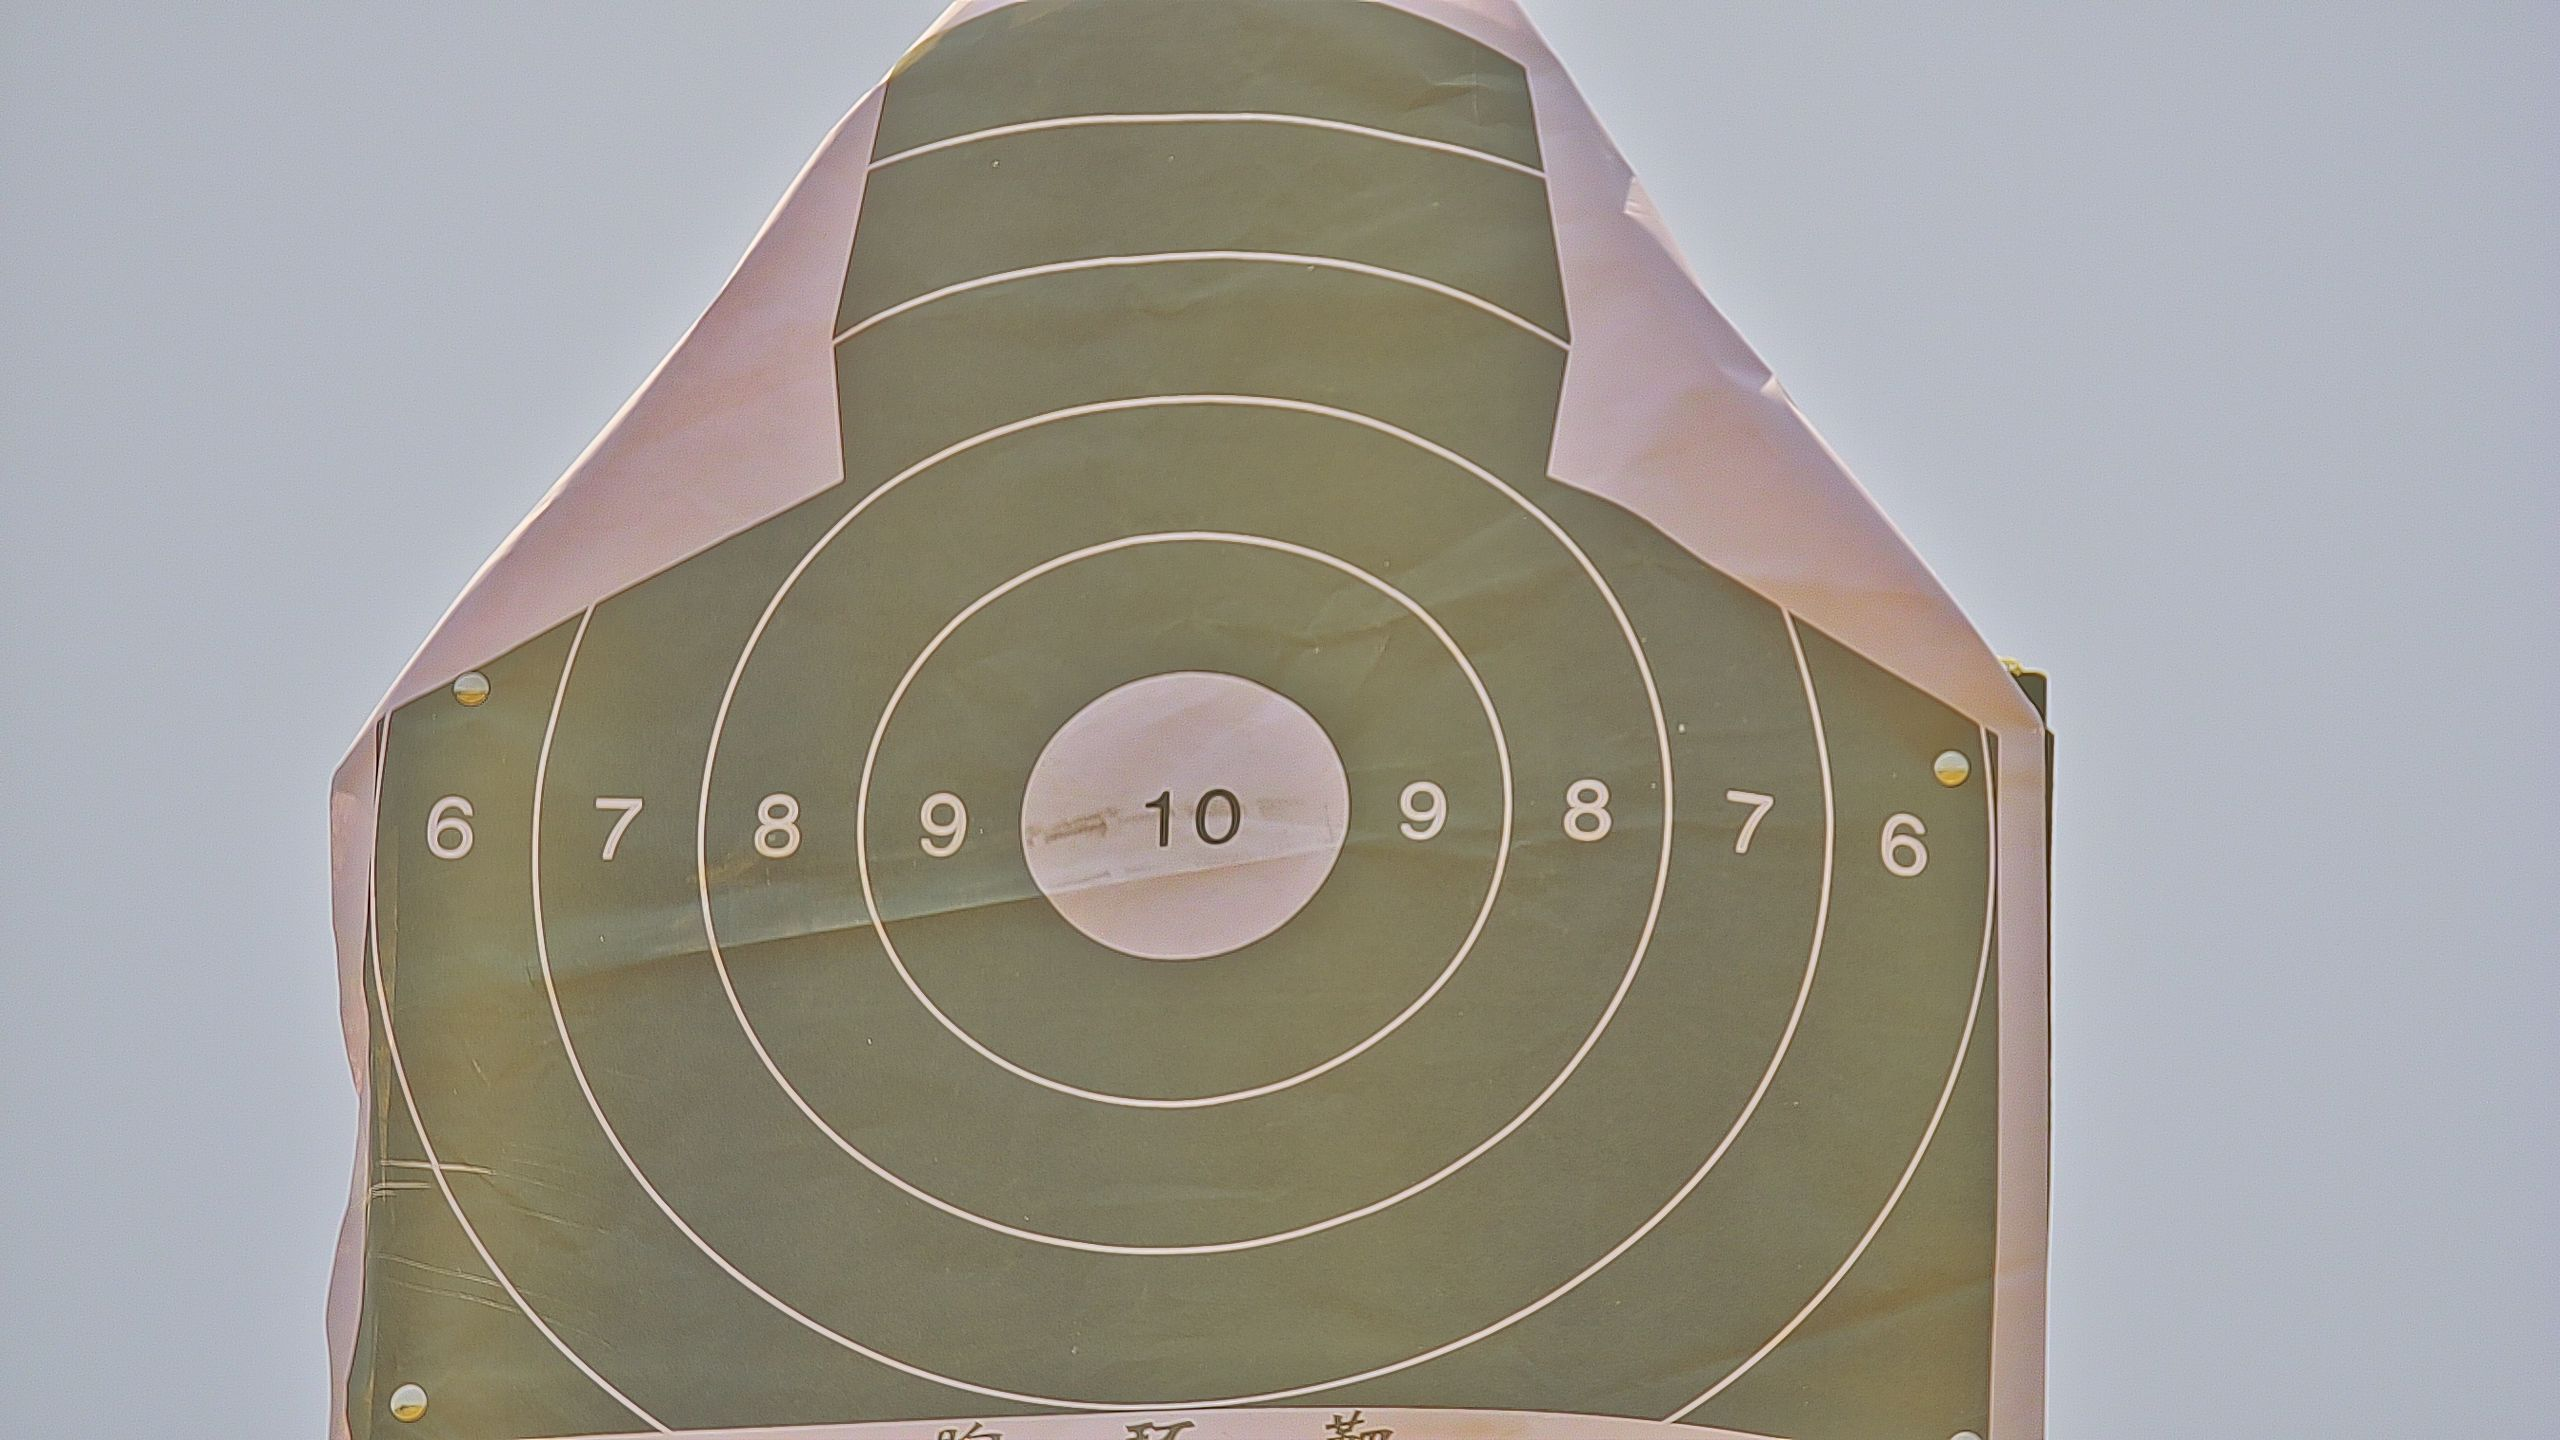kernel: (1182, 818, 1187, 826)
target: (346, 5, 2004, 1440)
ten: (1020, 666, 1347, 962)
